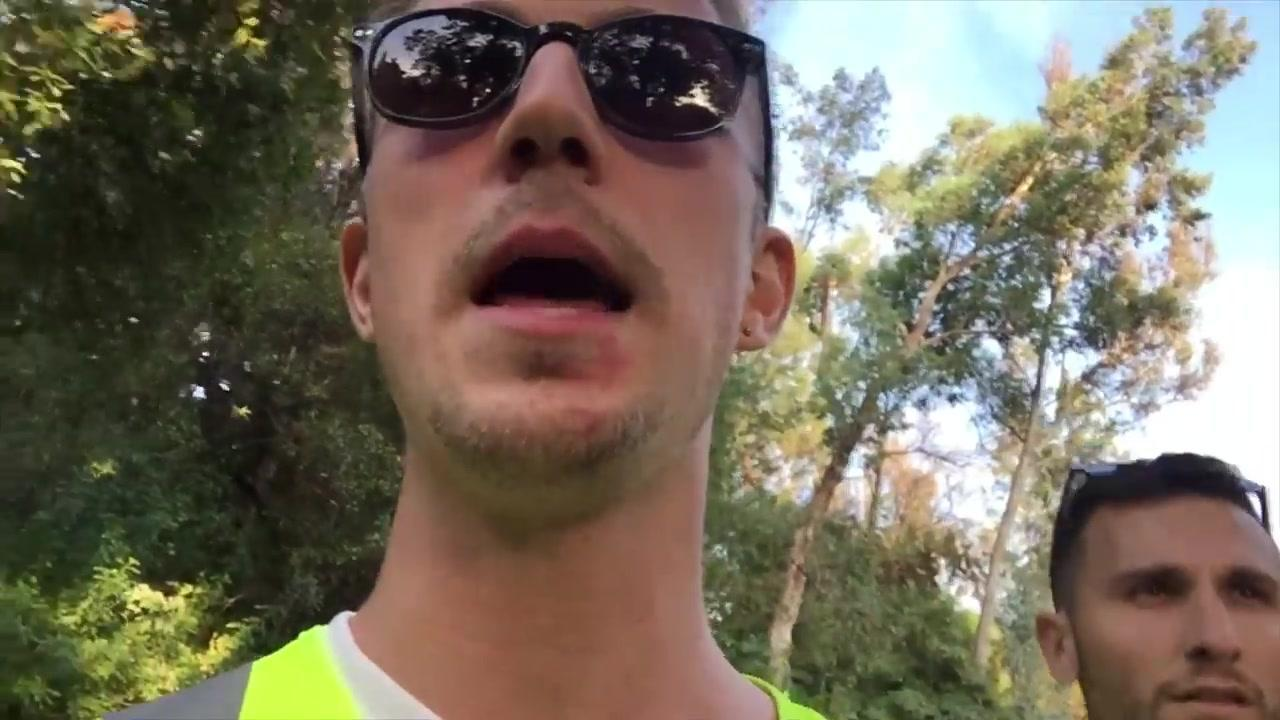vest: (96, 623, 837, 719)
